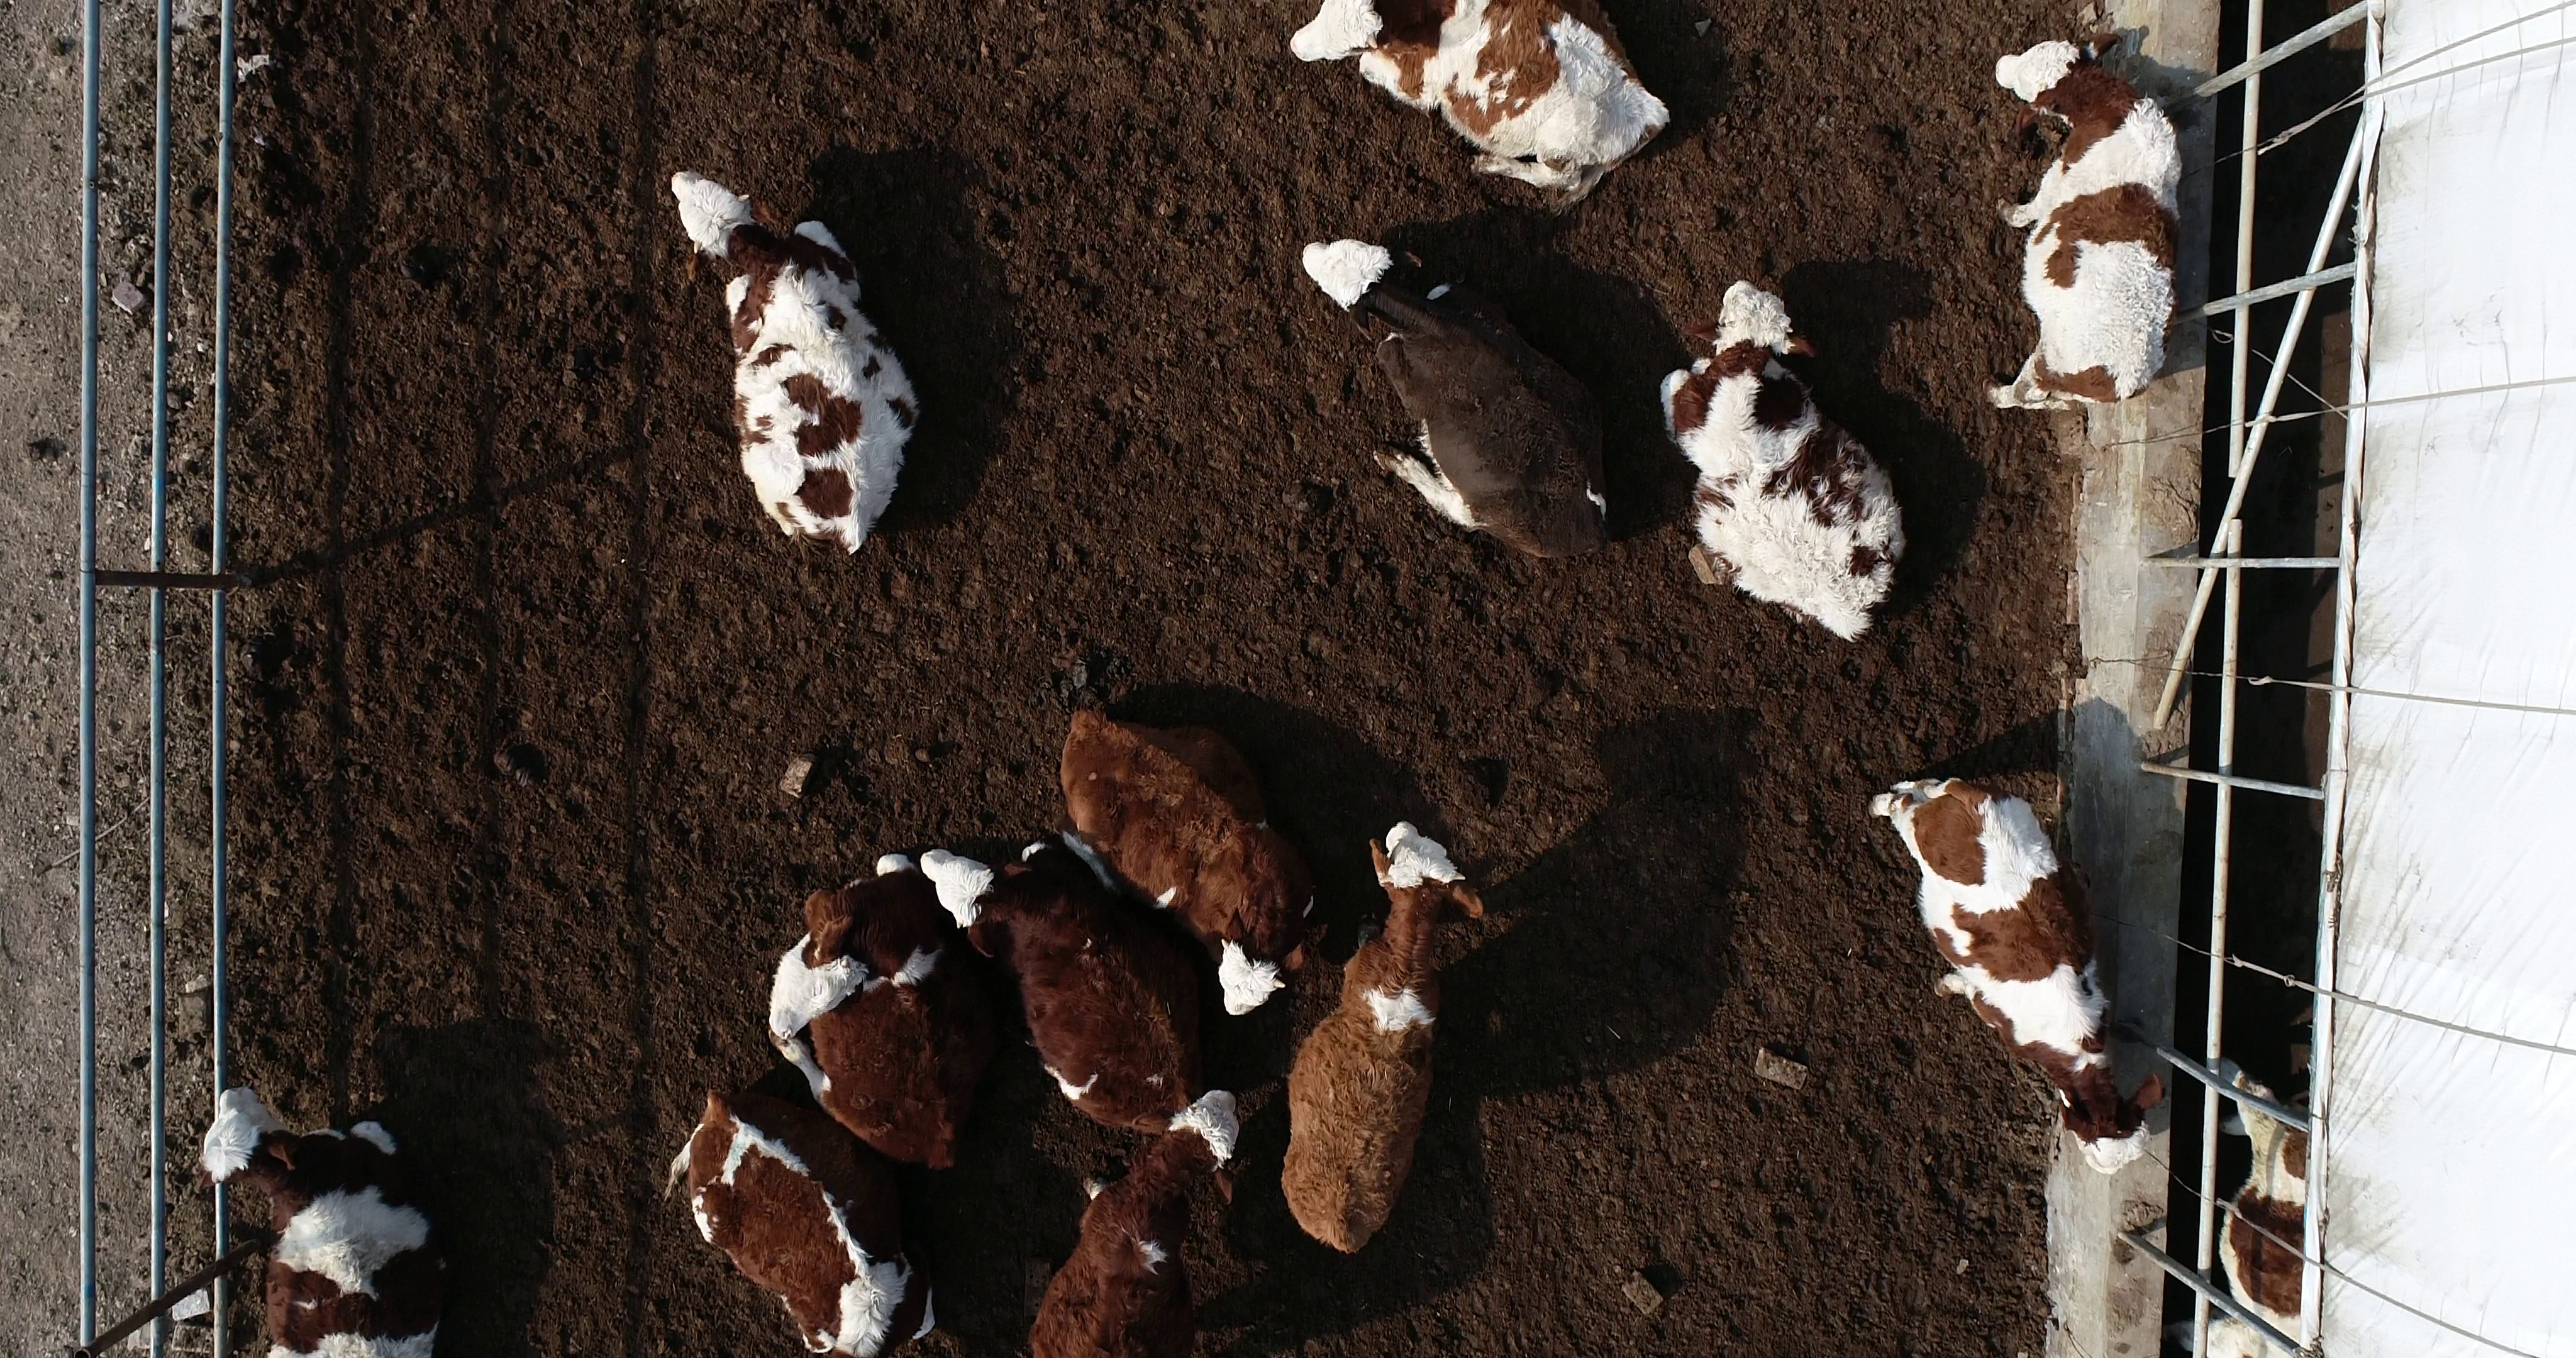cattle: (1860, 762, 2169, 1181), (661, 157, 927, 562), (1297, 232, 1619, 562), (1651, 273, 1915, 651), (1274, 809, 1494, 1259), (1975, 31, 2188, 416)
